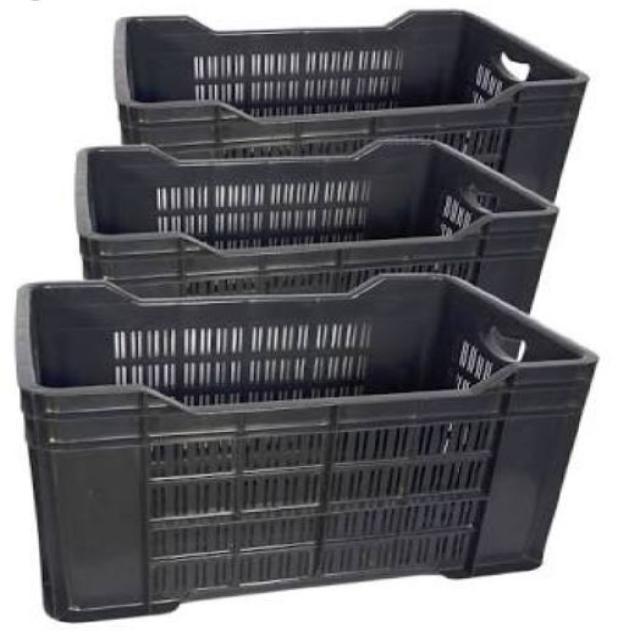basket: (8, 232, 618, 626), (73, 129, 560, 312)
